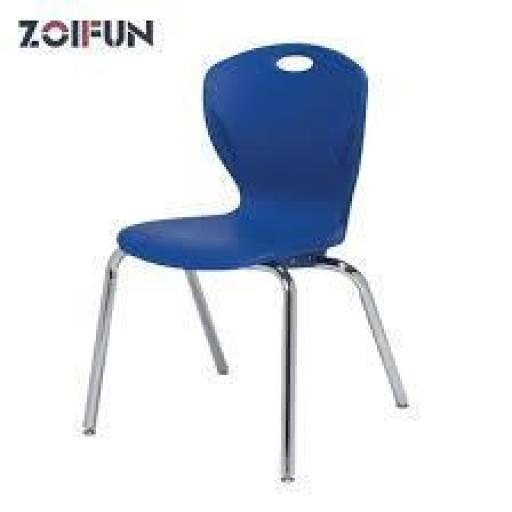chair: (89, 41, 418, 482)
